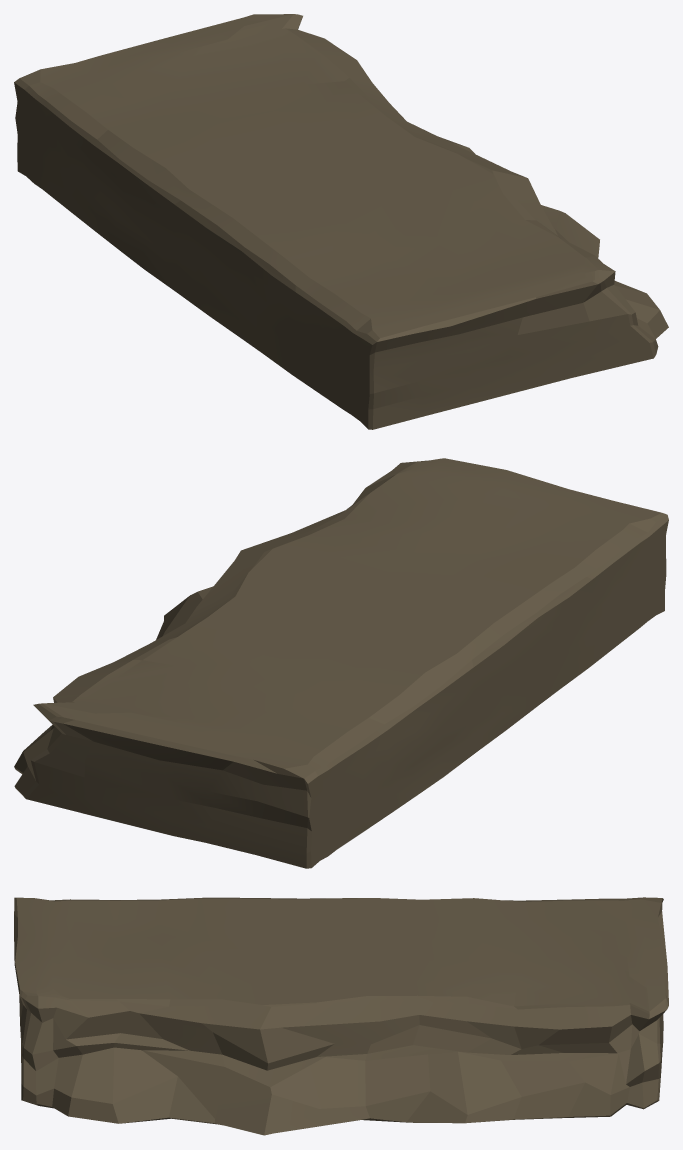
Rendered from Ground broken.fbx.
3 views of the same model, one above another, from view 1: azimuth 30°, elevation 25°; view 2: azimuth 150°, elevation 25°; view 3: azimuth 270°, elevation 25° (orthographic). The views are drawn at different scales.
Visible parts, largest first — view 1: Cube.019; view 2: Cube.019; view 3: Cube.019.
Part boxes in pixels (bbox=[...]): Cube.019: bbox=[14, 14, 668, 429]; Cube.019: bbox=[14, 458, 668, 868]; Cube.019: bbox=[14, 897, 668, 1135].
Bounding box in the file's own units: 800 × 209 × 1369.
